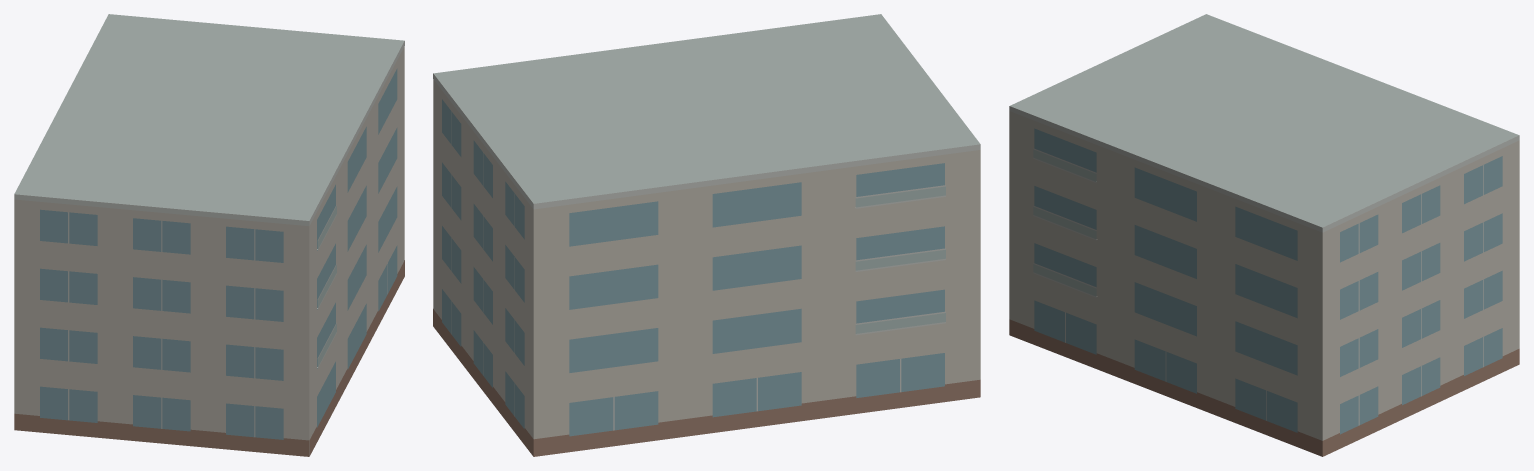
Rendered from survey-upis-32746566.glb.
3 views of the same model, side by side, from view 1: azimuth 30°, elevation 25°; view 2: azimuth 150°, elevation 25°; view 3: azimuth 270°, elevation 25° (orthographic). The views are drawn at different scales.
Visible parts, largest first — view 1: survey-upis-32746566.tmp; view 2: survey-upis-32746566.tmp; view 3: survey-upis-32746566.tmp.
Boxes of the visible parts, <box> form: survey-upis-32746566.tmp: <box>14,14,404,456</box>; survey-upis-32746566.tmp: <box>433,14,980,456</box>; survey-upis-32746566.tmp: <box>1009,14,1519,456</box>.
Size of the model in its own units: 22.19 by 11.1 by 22.39.
